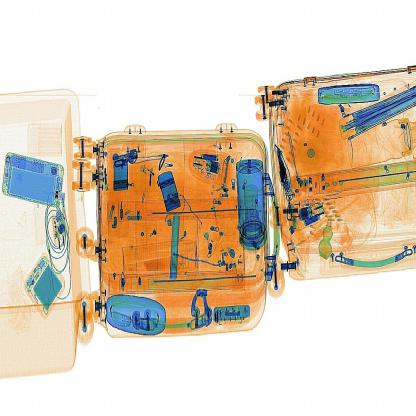pliers: (168, 218, 182, 281)
